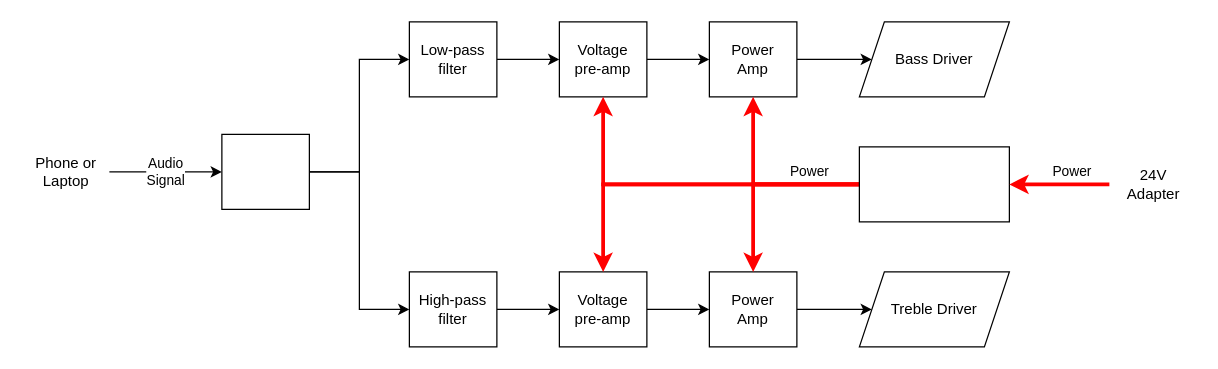
Image size: 1218x369. Some labels were removed from this diagram. The shapes that lost their labels are listed below. From the top down, each one's box as (x1, y1, x2, y2) in pixels, then its label:
(221, 133, 309, 209): Left/Right Selection
(858, 146, 1009, 222): Convert 24V to -12V and +12V
